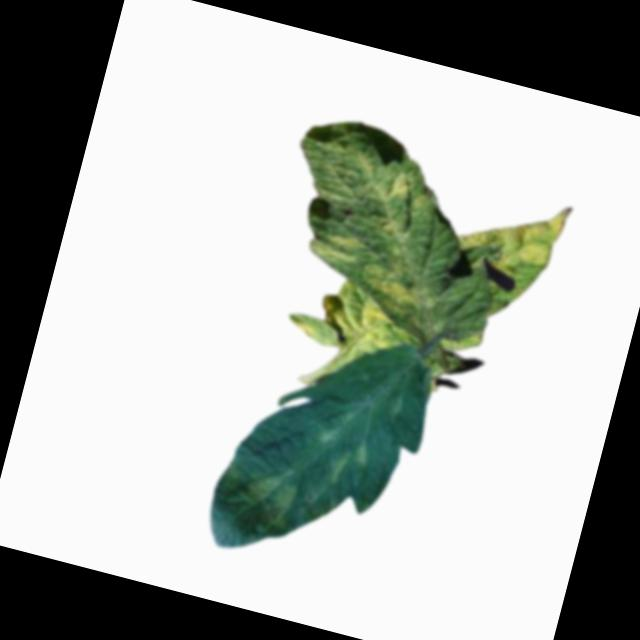Leaf_Mold: (451, 180, 573, 283), (284, 281, 399, 359), (221, 457, 302, 543), (359, 260, 440, 313), (363, 160, 422, 212), (326, 434, 373, 493), (305, 221, 364, 267), (374, 211, 418, 246)
